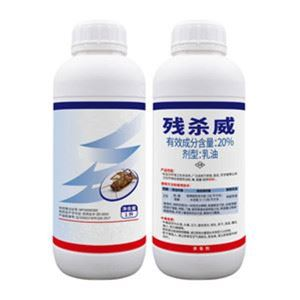Insecticide: (49, 16, 150, 281), (150, 18, 249, 285)
